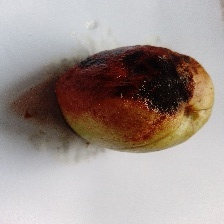guava: (28, 0, 203, 188)
